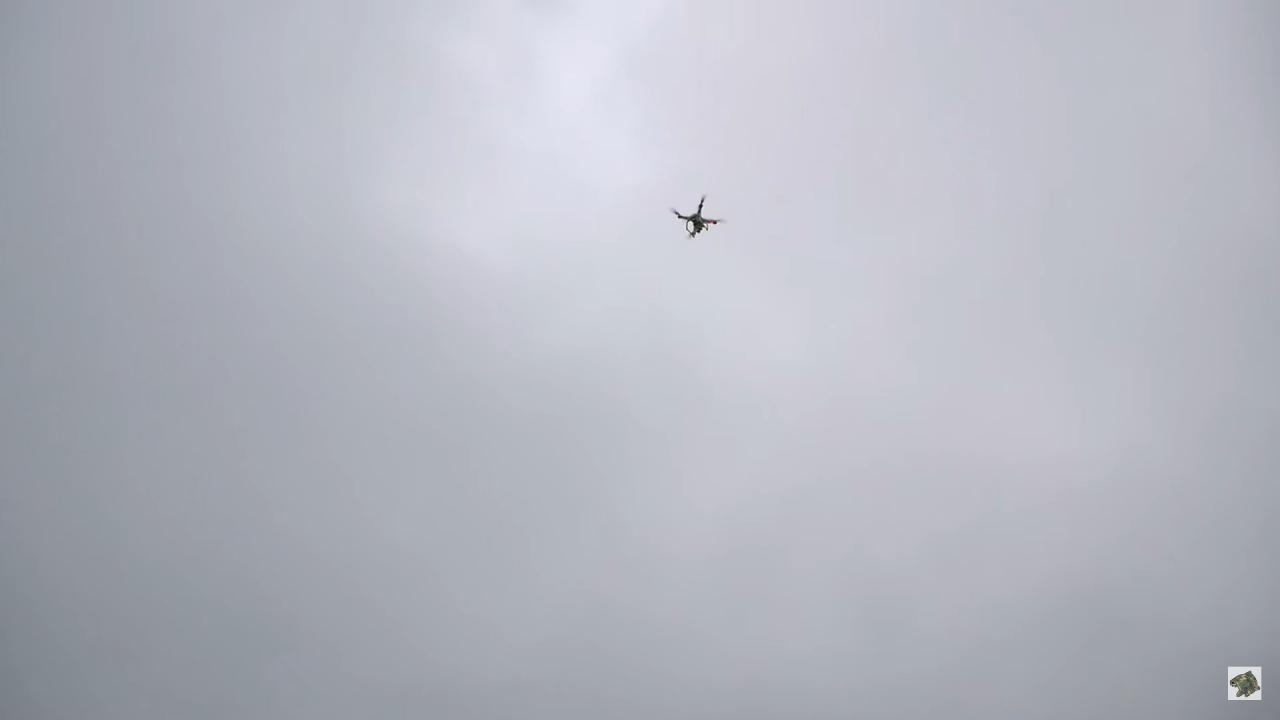Drone: (661, 182, 732, 252)
